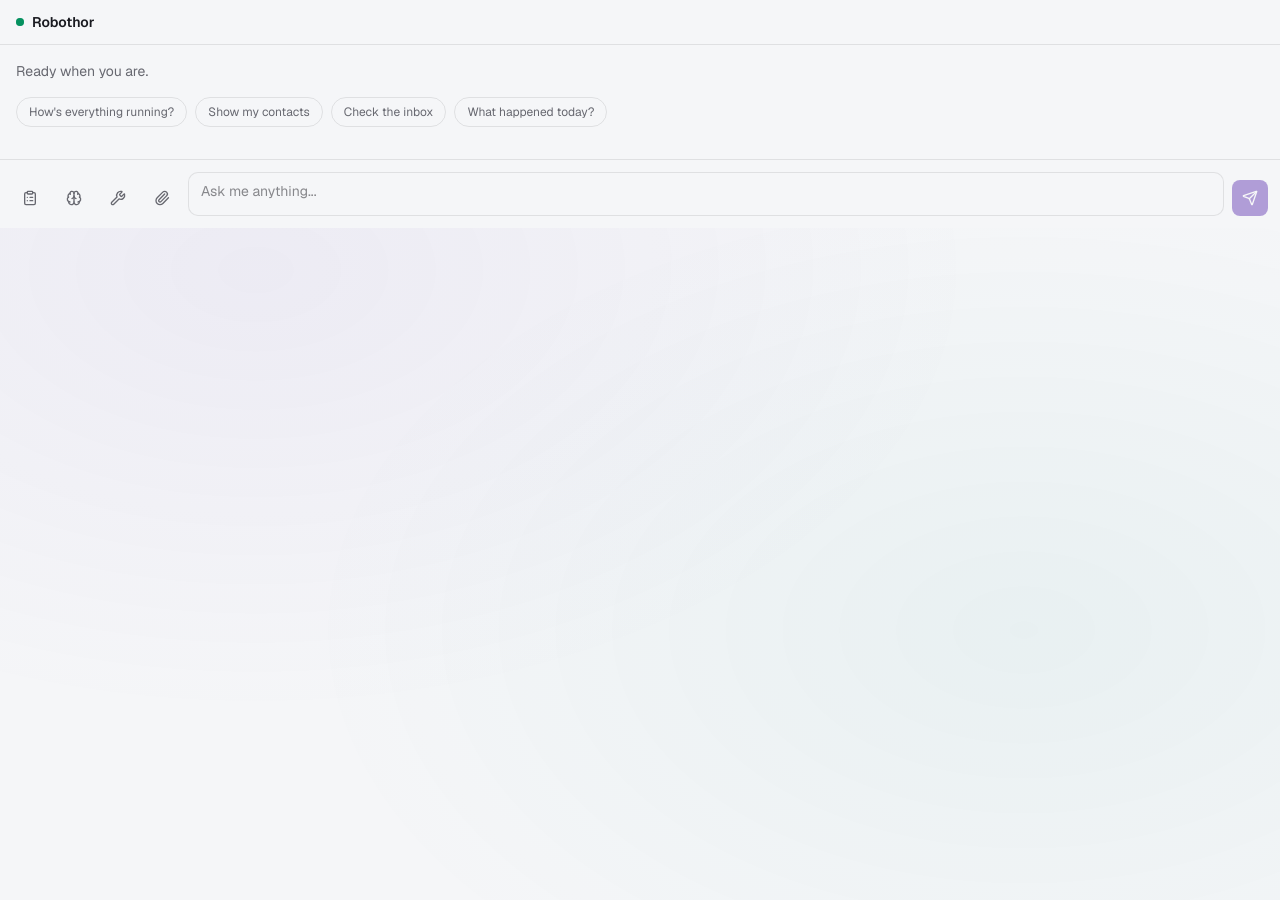
Scenario: ChatPanel Tools button for a member › opens and says the list is the operator's, without asking the bridge
Click the button named "Tools and MCP servers". click: (118, 198)
box: x1=100 y1=180 x2=136 y2=216
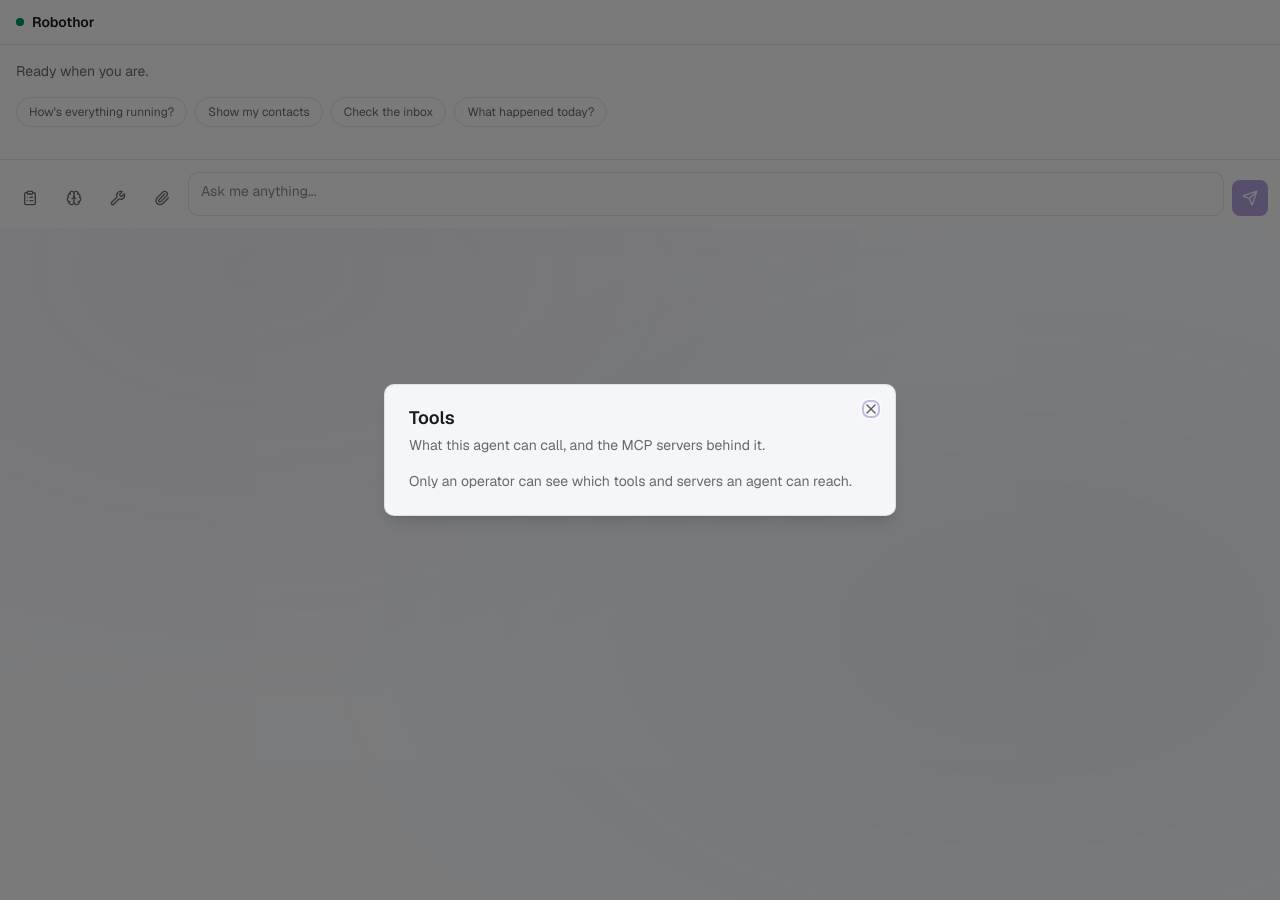
Expected: the text with test id "tools-no-agent" does not show "not been told", x1=409 y1=471 x2=871 y2=491
Expected: the text with test id "tools-no-agent" shows "Only an operator", x1=409 y1=472 x2=852 y2=490
